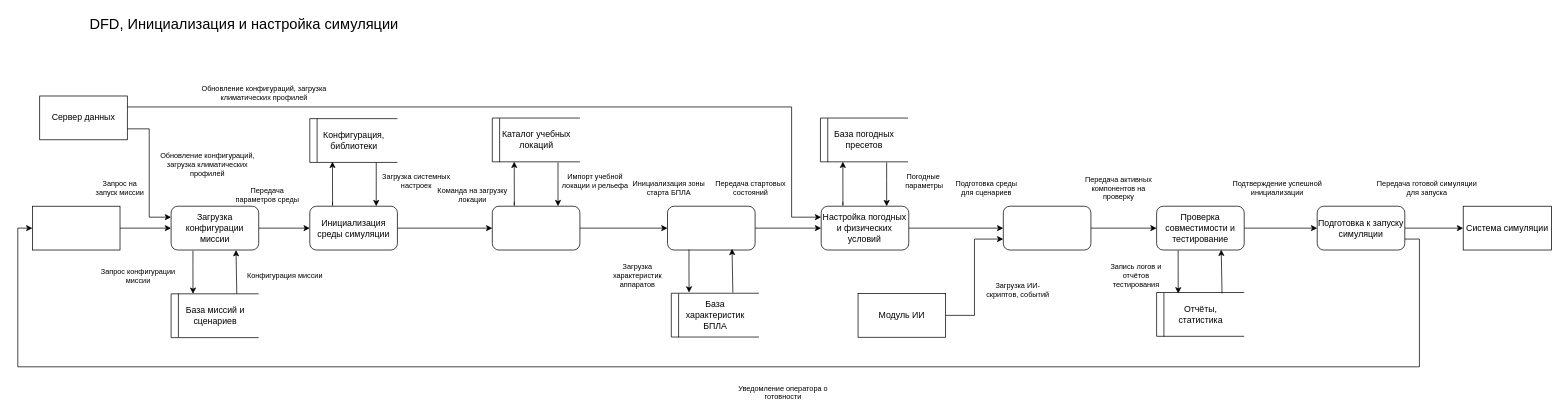
This 1564x415 diagram has some shape labels left out. Each missing label, with the centre of its shape:
Загрузка учебной локации: pixel 536 227
Инициализация логики сценария: pixel 1047 227
Настройка параметров БПЛА: pixel 711 227
Оператор: pixel 76 227
